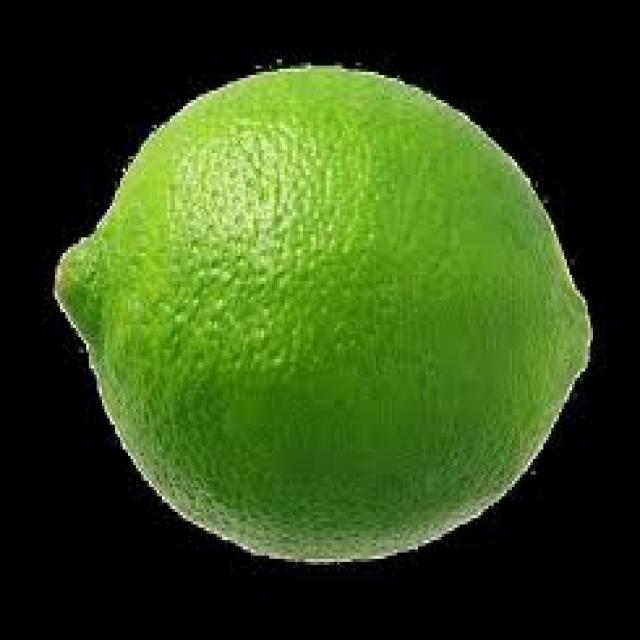lemon: (29, 47, 601, 565)
